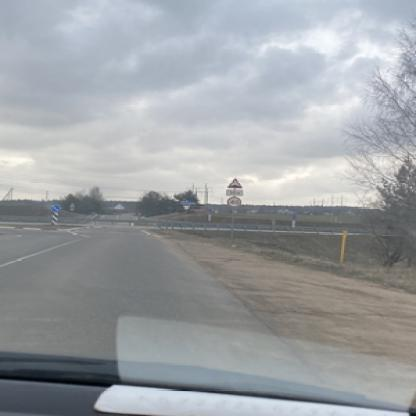speedlimit: (226, 196, 241, 206)
